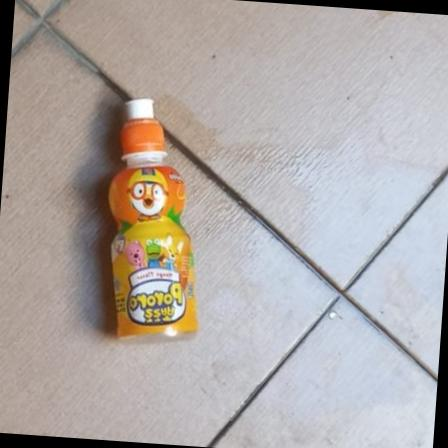Plastik: (97, 97, 215, 348)
